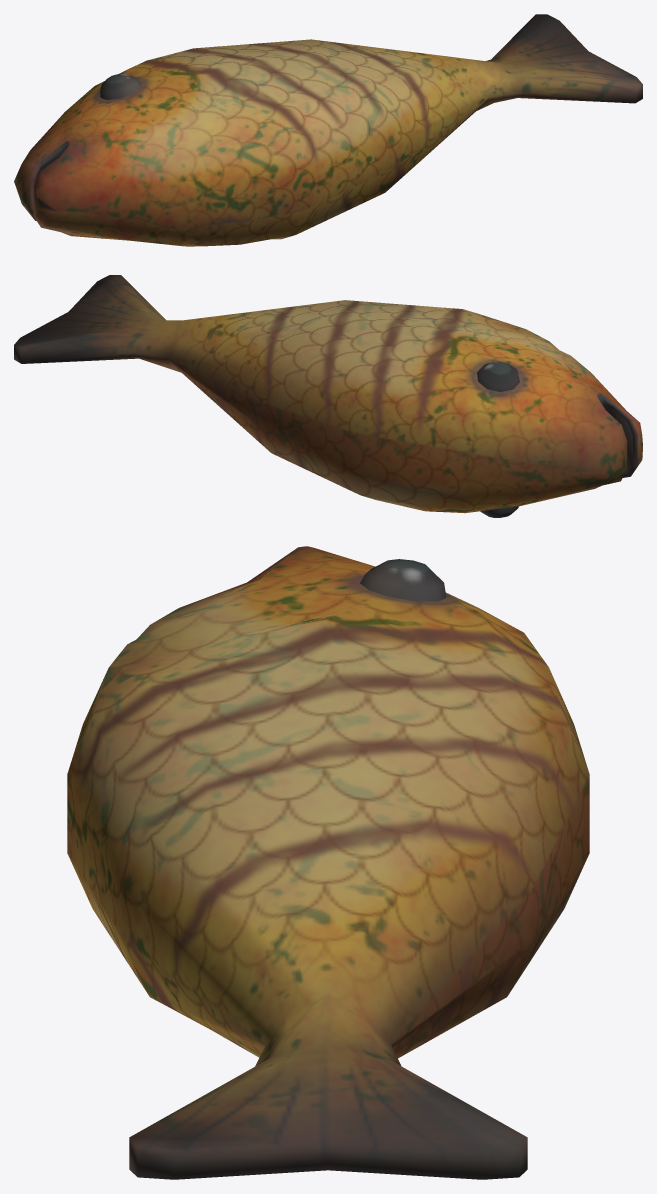
File: Fish.fbx
The picture shows the model from 3 angles, top to bottom: view 1: azimuth 30°, elevation 25°; view 2: azimuth 150°, elevation 25°; view 3: azimuth 270°, elevation 25°; orthographic projection. The views are drawn at different scales.
Visible parts, largest first — view 1: fish; view 2: fish; view 3: fish.
Boxes of the visible parts, x1,y1,x2,y2 form: fish: [14, 14, 642, 246]; fish: [14, 275, 642, 517]; fish: [67, 546, 589, 1179].
Size of the model in its own units: 1.71 by 0.4458 by 0.6761.
